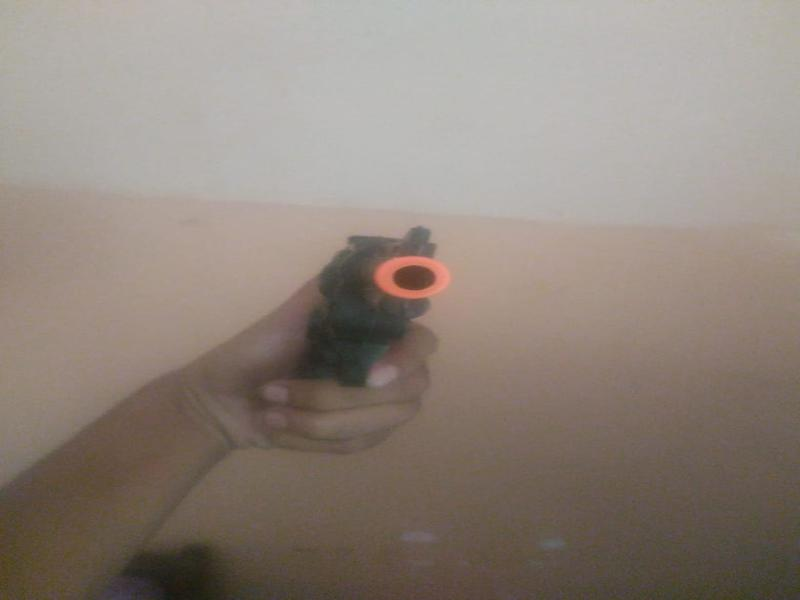gun: (299, 197, 594, 425)
